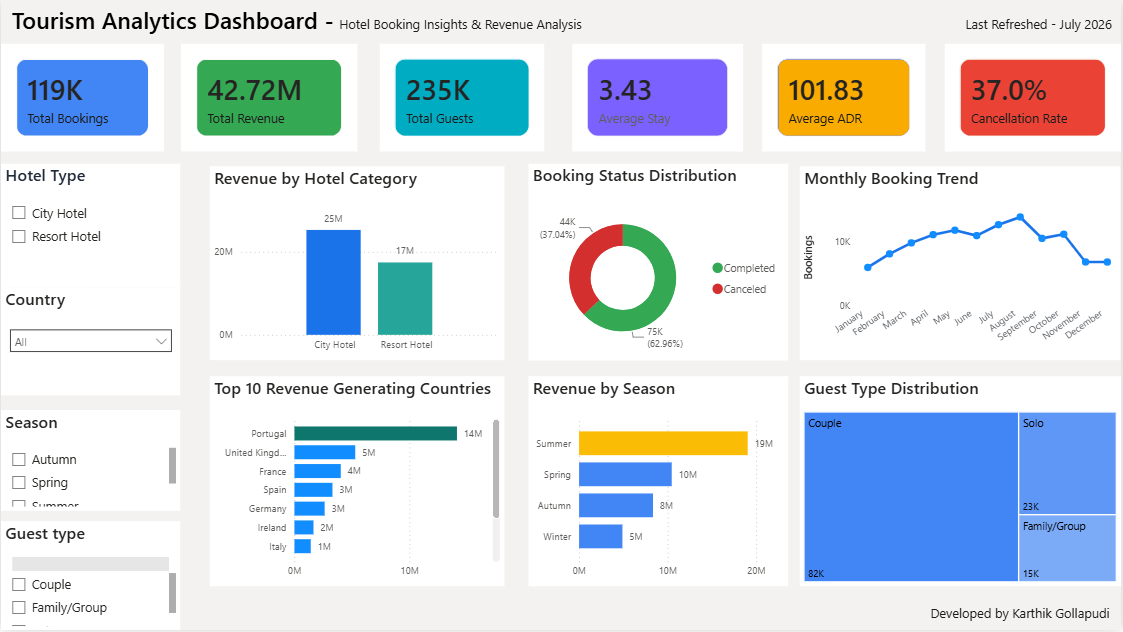

This screenshot's page, from the dashboard's own definition file:
{"tool":"powerbi","page":{"name":"Page 1","canvas":[1280,720],"ordinal":0},"visuals":[{"type":"cardVisual","fields":{"Data":["Dim_Country.Total Bookings"]},"box":[0,50,186.7,123.3],"z":0},{"type":"cardVisual","fields":{"Data":["Dim_Country.Total Revenue"]},"box":[205,50,201.7,123.3],"z":1000},{"type":"cardVisual","fields":{"Data":["Dim_Country.Total Guests"]},"box":[433.3,50,188.3,123.3],"z":2000},{"type":"cardVisual","fields":{"Data":["Dim_Country.Average Stay"]},"box":[653.3,50,195,123.3],"z":3000},{"type":"cardVisual","fields":{"Data":["Dim_Country.Average ADR"]},"box":[870,50,186.7,123.3],"z":4000},{"type":"cardVisual","fields":{"Data":["Dim_Country.Cancellation Rate"]},"box":[1078.3,50,201.7,123.3],"z":5000},{"type":"clusteredColumnChart","title":"Revenue by Hotel Category","fields":{"Category":["Dim_Hotel.hotel"],"Y":["Dim_Country.Total Revenue"]},"box":[238.3,190,336.7,221.7],"z":6000},{"type":"donutChart","title":"Booking Status Distribution","fields":{"Category":["hotel_bookings_final.booking_status"],"Y":["Dim_Country.Total Bookings"]},"box":[603.3,186.7,296.7,225],"z":7000},{"type":"lineChart","title":"Monthly Booking Trend","fields":{"Category":["hotel_bookings_final.arrival_date_month"],"Y":["Dim_Country.Total Bookings"]},"box":[913.3,190,366.7,221.7],"z":8000},{"type":"barChart","title":"Revenue by Season","fields":{"Category":["Dim_Season.season"],"Y":["Dim_Country.Total Revenue"]},"box":[602.9,430,296.7,240],"z":9000},{"type":"clusteredBarChart","title":"Top 10 Revenue Generating Countries","fields":{"Category":["Dim_Country.Country Name"],"Y":["Dim_Country.Total Revenue"]},"box":[238.6,430,336.7,240],"z":10000},{"type":"treemap","title":"Guest Type Distribution","fields":{"Group":["Dim_Guest_Type.guest_type"],"Values":["Dim_Country.Total Bookings"]},"box":[912.9,430,367,240],"z":11000},{"type":"slicer","title":"Hotel Type","fields":{"Values":["Dim_Hotel.hotel"]},"box":[0,186.7,205,141.7],"z":12000},{"type":"slicer","title":"Country","fields":{"Values":["Dim_Country.Country Name"]},"box":[0,328.3,205,123.3],"z":13000},{"type":"slicer","title":"Season","fields":{"Values":["Dim_Season.season"]},"box":[0,468.3,205,115],"z":14000},{"type":"slicer","title":"Guest type","fields":{"Values":["Dim_Guest_Type.guest_type"]},"box":[0,595,205,125],"z":15000},{"type":"textbox","box":[0,0,400,50],"z":16000},{"type":"textbox","box":[1097.1,12.9,182.9,37.1],"z":17000},{"type":"textbox","box":[1057.1,685.7,222.9,34.3],"z":18000},{"type":"textbox","box":[381.4,12.9,308.6,37.1],"z":19000}]}

Visuals, with their boxes in screenshot pixels (x1, y1, x2, y2), scaled from the page's 1280x720 canvas onto the 1123x632 screenshot:
cardVisual - Dim_Country.Total Bookings: select_region(0, 44, 164, 152)
cardVisual - Dim_Country.Total Revenue: select_region(180, 44, 357, 152)
cardVisual - Dim_Country.Total Guests: select_region(380, 44, 545, 152)
cardVisual - Dim_Country.Average Stay: select_region(573, 44, 744, 152)
cardVisual - Dim_Country.Average ADR: select_region(763, 44, 927, 152)
cardVisual - Dim_Country.Cancellation Rate: select_region(946, 44, 1122, 152)
"Revenue by Hotel Category" clusteredColumnChart: select_region(209, 167, 504, 361)
"Booking Status Distribution" donutChart: select_region(529, 164, 790, 361)
"Monthly Booking Trend" lineChart: select_region(801, 167, 1122, 361)
"Revenue by Season" barChart: select_region(529, 377, 789, 588)
"Top 10 Revenue Generating Countries" clusteredBarChart: select_region(209, 377, 505, 588)
"Guest Type Distribution" treemap: select_region(801, 377, 1122, 588)
"Hotel Type" slicer: select_region(0, 164, 180, 288)
"Country" slicer: select_region(0, 288, 180, 396)
"Season" slicer: select_region(0, 411, 180, 512)
"Guest type" slicer: select_region(0, 522, 180, 631)
textbox: select_region(0, 0, 351, 44)
textbox: select_region(963, 11, 1122, 44)
textbox: select_region(927, 602, 1122, 631)
textbox: select_region(335, 11, 605, 44)
